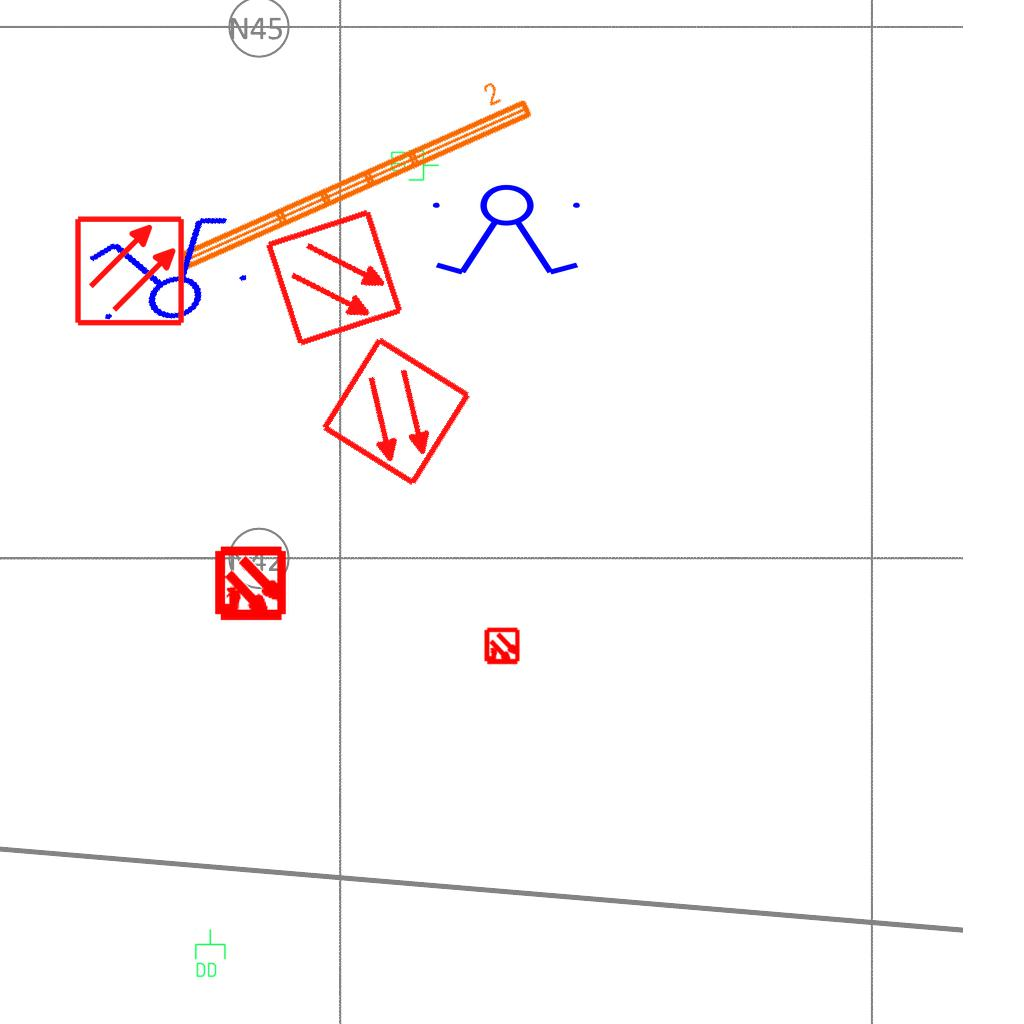Ambulanz_Pendelleuchte_LED: (162, 68, 539, 278)
Datenanschluss_zweifach: (389, 148, 440, 182), (193, 928, 227, 979)
OT_Multisensormelder_(Kombination_RMO_WMD): (194, 529, 307, 642), (474, 619, 530, 675)
RMO_Rauchmelder_optischer: (318, 333, 475, 490), (263, 206, 406, 349), (73, 214, 186, 327)
Serienschalter: (73, 203, 261, 343), (424, 183, 592, 279)
